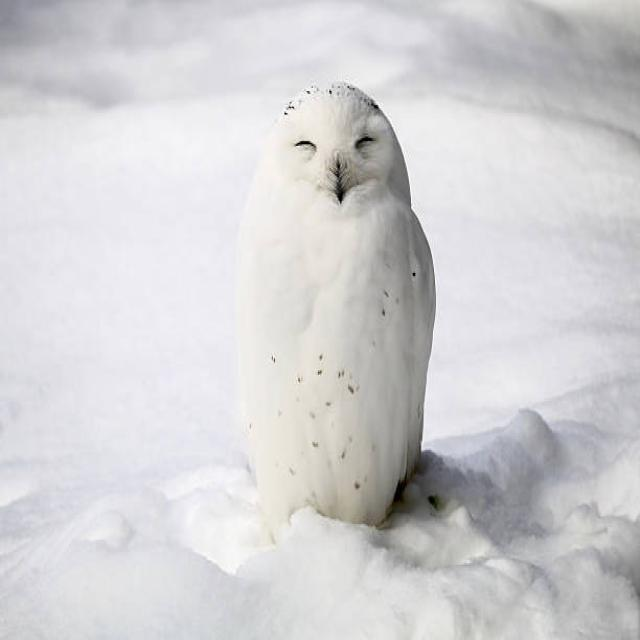snowy owl: (223, 74, 474, 557)
